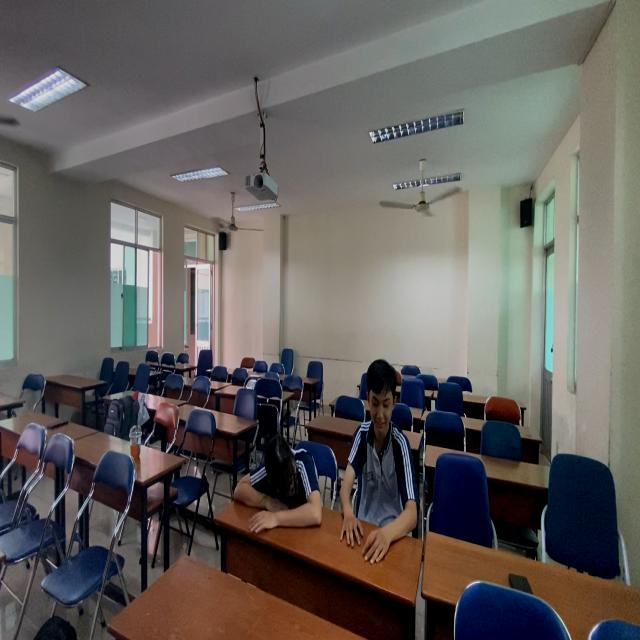sleep: (231, 430, 334, 535)
